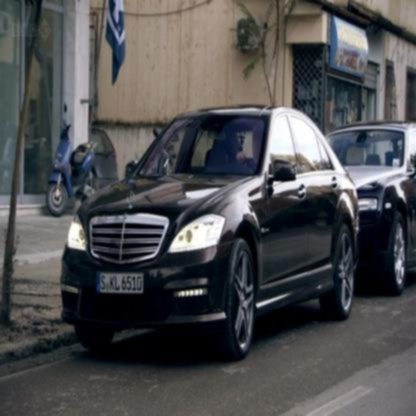Vehicle: (60, 105, 359, 365)
